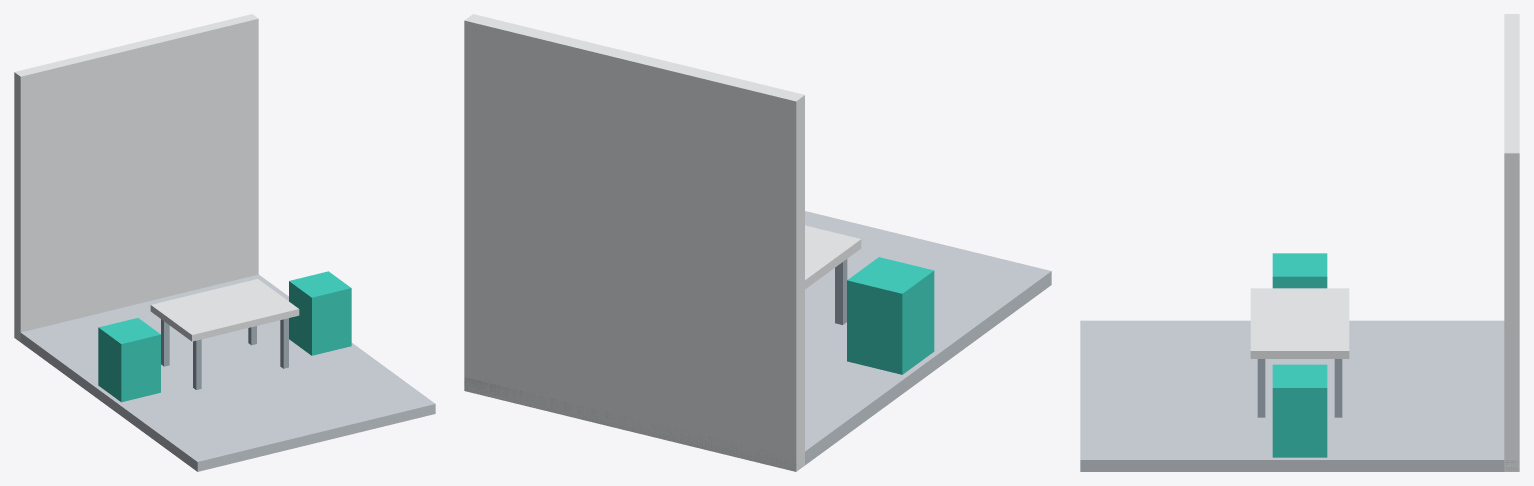
The picture shows the model from 3 angles, left to right: view 1: azimuth 30°, elevation 25°; view 2: azimuth 150°, elevation 25°; view 3: azimuth 270°, elevation 25°; orthographic projection. The views are drawn at different scales.
Visible parts, largest first — view 1: Exhibition Booth Concept; view 2: Exhibition Booth Concept; view 3: Exhibition Booth Concept.
Boxes of the visible parts, x1,y1,x2,y2 form: Exhibition Booth Concept: (14,14,435,471); Exhibition Booth Concept: (464,14,1051,471); Exhibition Booth Concept: (1080,14,1519,471).
Size of the model in its own units: 3 by 3.2 by 4.
